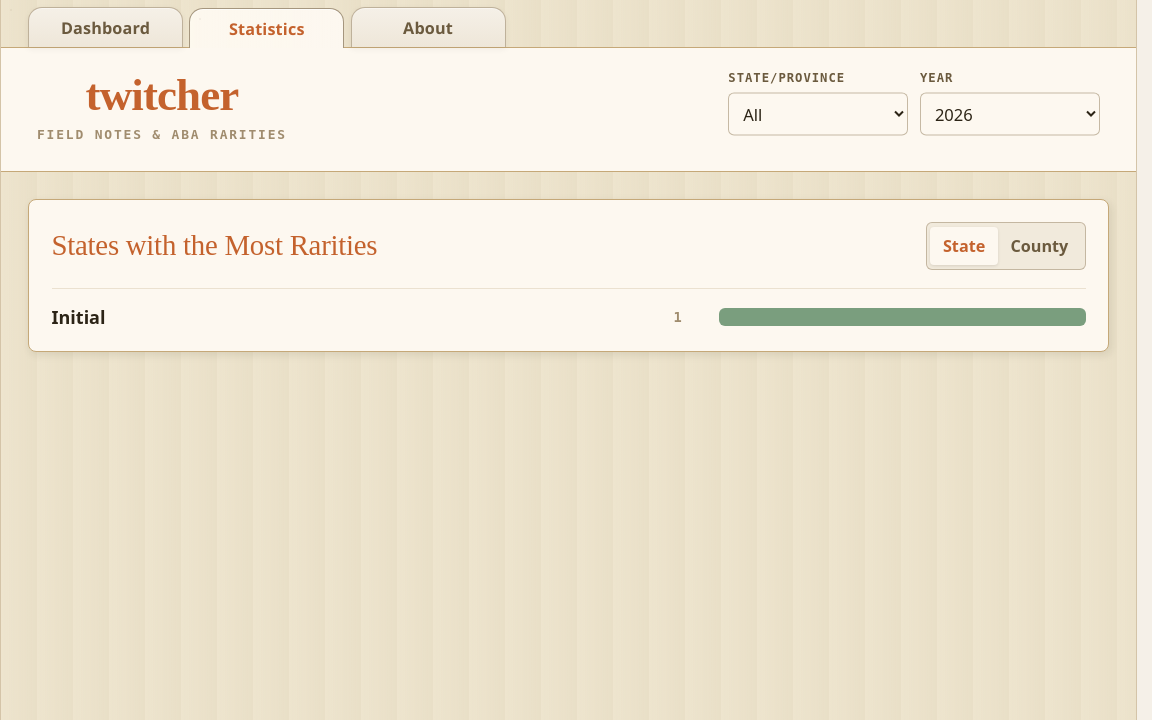
Test: StatisticsPage › ignores an older request finishing with success after a newer filter request
Expected: the text "Initial" is shown, x1=52 y1=305 x2=106 y2=329
Select "Maine" in the dropdown labelled "State/Province". click: (818, 114)
box: x1=728 y1=92 x2=908 y2=136
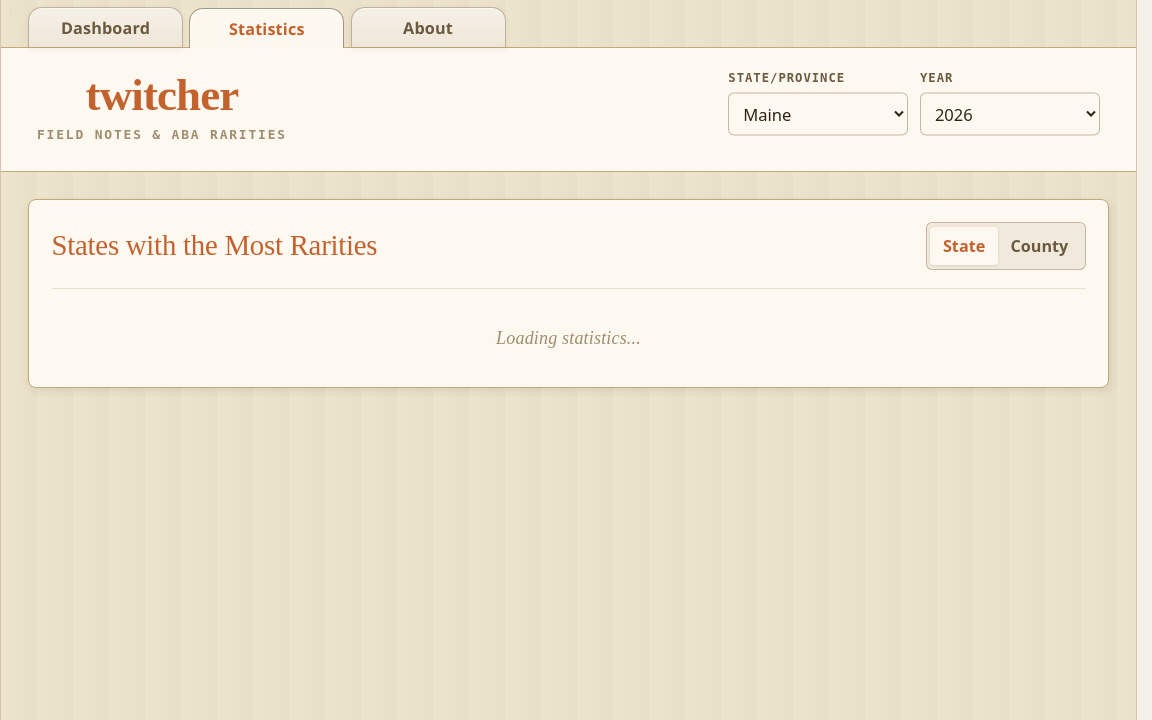
Select "Ohio" in the dropdown labelled "State/Province". click: (818, 114)
box: x1=728 y1=92 x2=908 y2=136
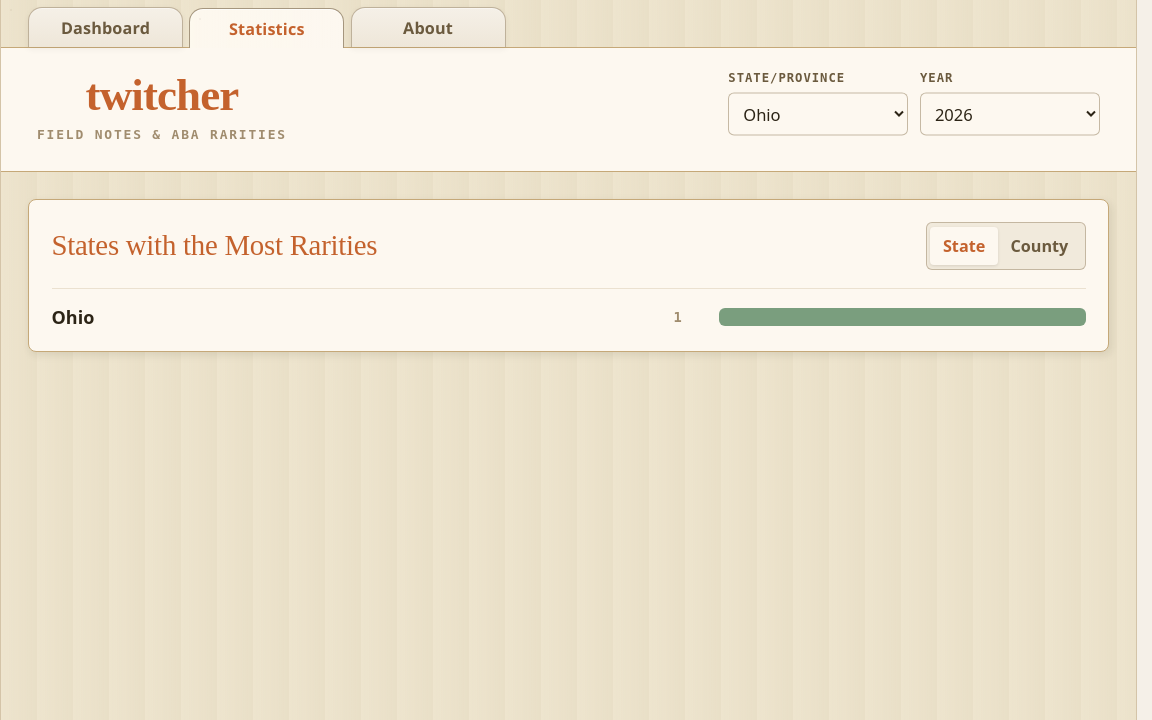
Result: the element named "Ohio: 1 total rarities" is shown at x1=719 y1=308 x2=1086 y2=326
